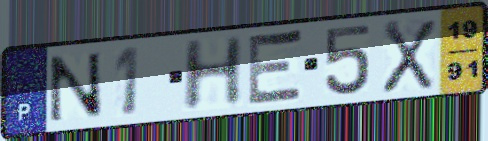1: (111, 43, 141, 120)
5: (323, 22, 374, 98)
E: (245, 27, 306, 109)
H: (179, 33, 246, 115)
N: (46, 50, 106, 125)
X: (379, 17, 440, 96)
